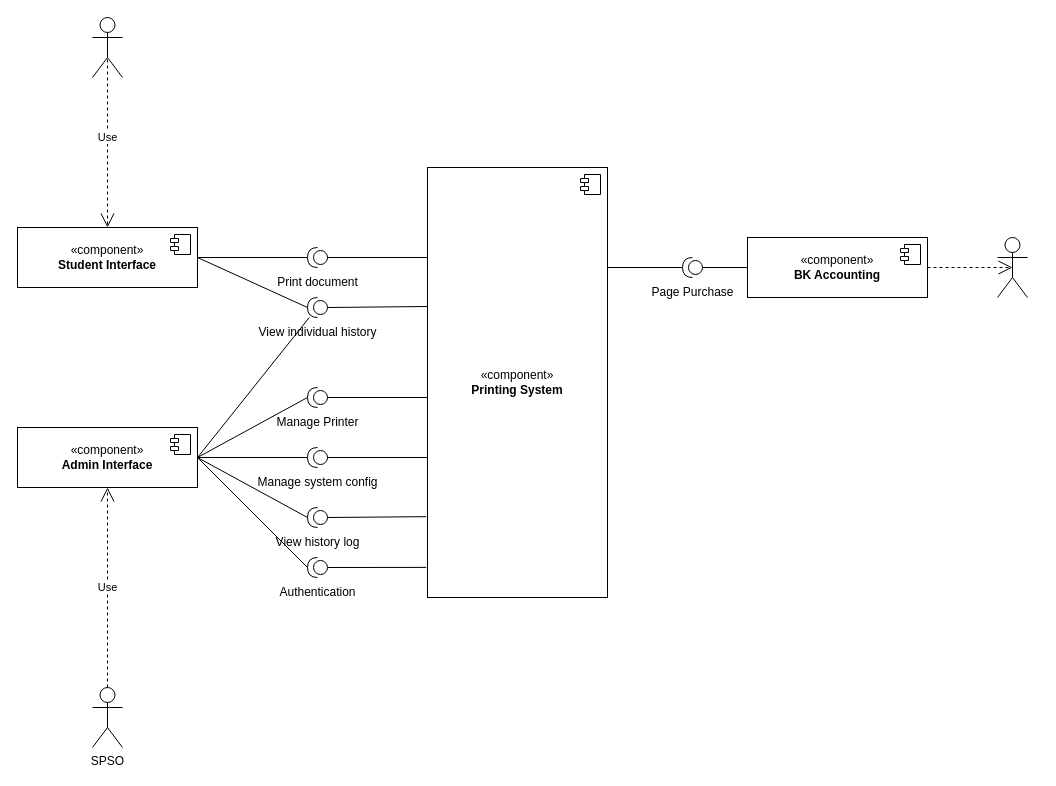
This 1056x786 diagram has some shape labels left out. The shapes that lost their labels are listed below. From the top down, each one's centre as x and y in pixels, then its label:
the point at 107,47: Student
the point at 1012,267: University
